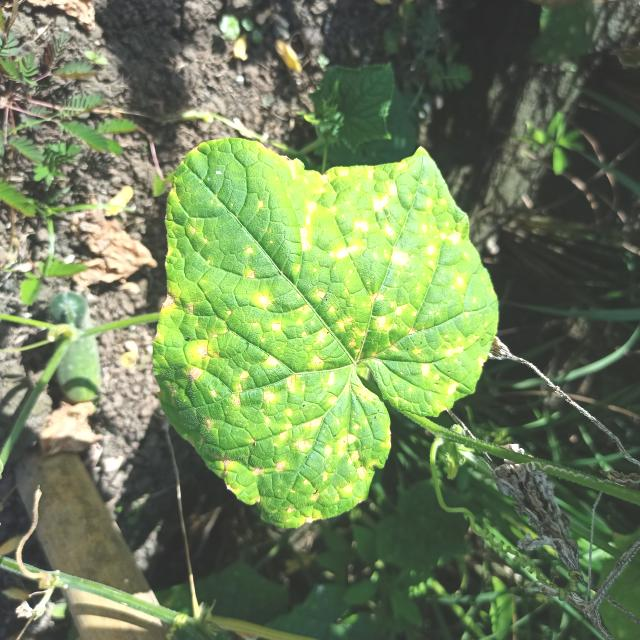disease_cucumber: (160, 140, 492, 524)
